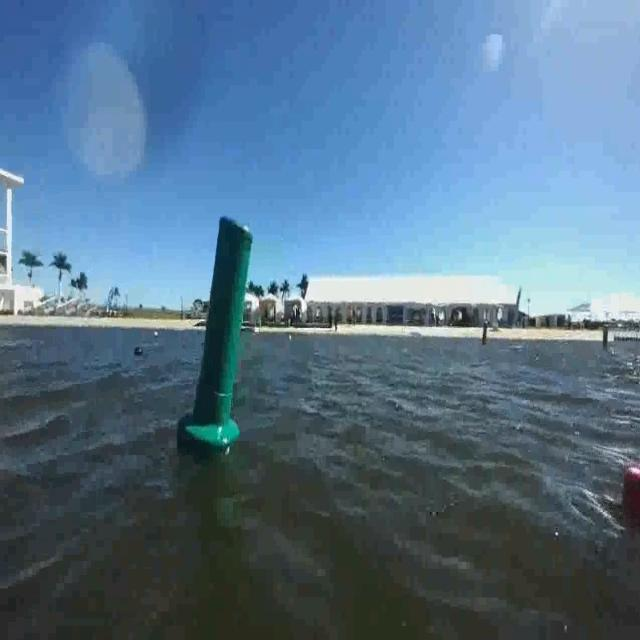green-column-buoy: (182, 215, 252, 450)
